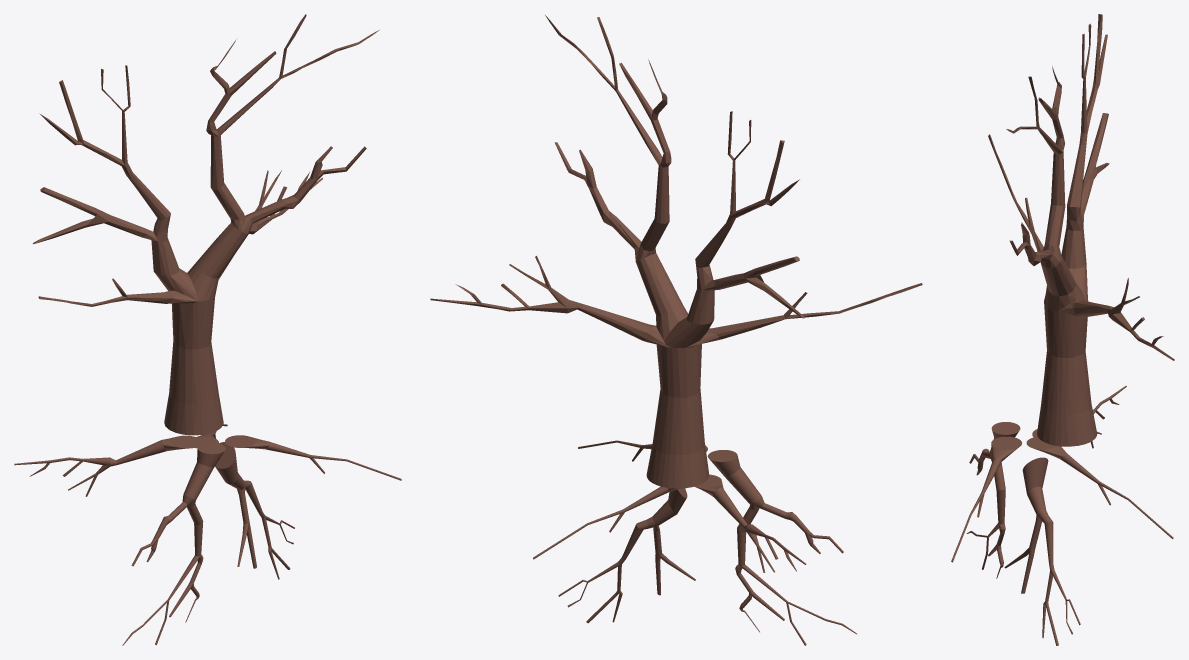
File: tree.fbx
The picture shows the model from 3 angles, left to right: view 1: azimuth 30°, elevation 25°; view 2: azimuth 150°, elevation 25°; view 3: azimuth 270°, elevation 25°; orthographic projection. The views are drawn at different scales.
Parts seen in each view (by area): view 1: root.001, 실린더.008, 실린더.001, 실린더.002, 실린더.003; view 2: root.001, 실린더.008, 실린더.001, 실린더.002, 실린더.004; view 3: root.001, 실린더.001, 실린더.008, 실린더.003, 실린더.004.
Part boxes in pixels (left/top/right/bottom): root.001: left=33, top=14, right=379, bottom=435; 실린더.008: left=122, top=442, right=225, bottom=645; 실린더.001: left=215, top=442, right=294, bottom=579; 실린더.002: left=14, top=435, right=202, bottom=496; 실린더.003: left=225, top=435, right=401, bottom=480; root.001: left=430, top=15, right=922, bottom=488; 실린더.008: left=707, top=450, right=856, bottom=645; 실린더.001: left=558, top=488, right=695, bottom=623; 실린더.002: left=694, top=474, right=806, bottom=572; 실린더.004: left=533, top=486, right=679, bottom=559; root.001: left=988, top=14, right=1174, bottom=446; 실린더.001: left=1004, top=457, right=1080, bottom=645; 실린더.008: left=966, top=422, right=1020, bottom=578; 실린더.003: left=951, top=436, right=1021, bottom=562; 실린더.004: left=1026, top=437, right=1173, bottom=538.
Bounding box in the file's own units: 11042 × 16069 × 5622.
